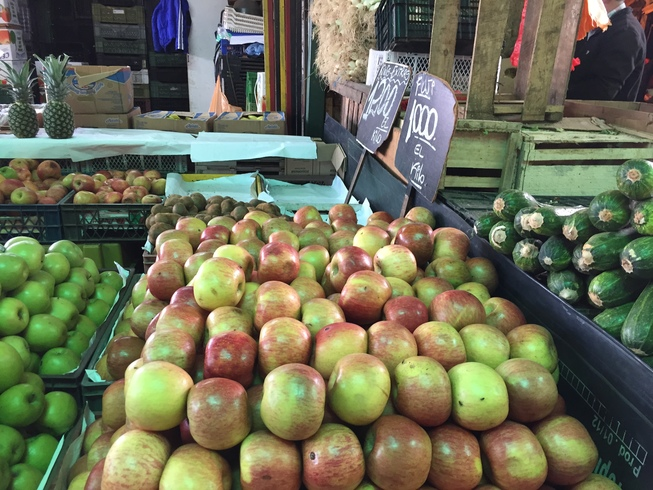precio: (391, 73, 464, 201), (353, 61, 412, 152)
